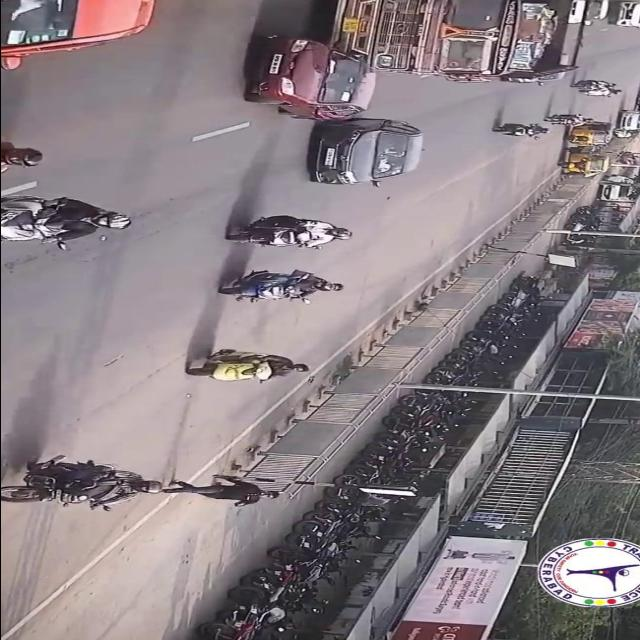accident: (241, 0, 587, 119)
non_accident: (613, 84, 639, 141), (569, 74, 622, 98)
